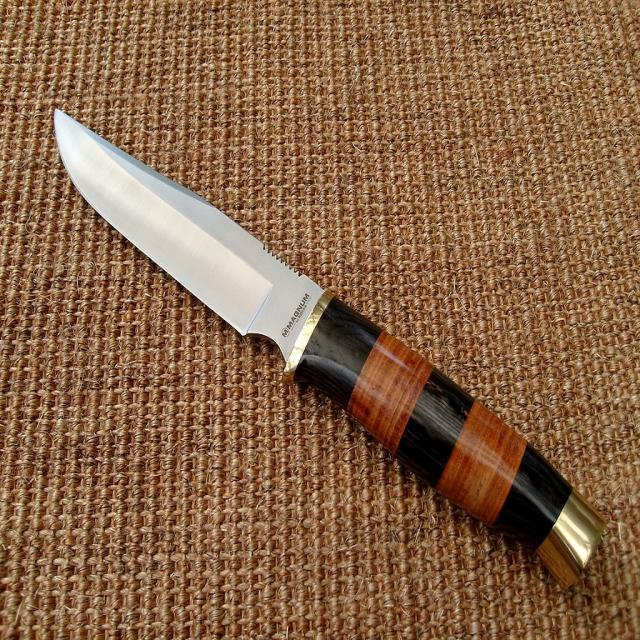Knife: (55, 112, 604, 587)
